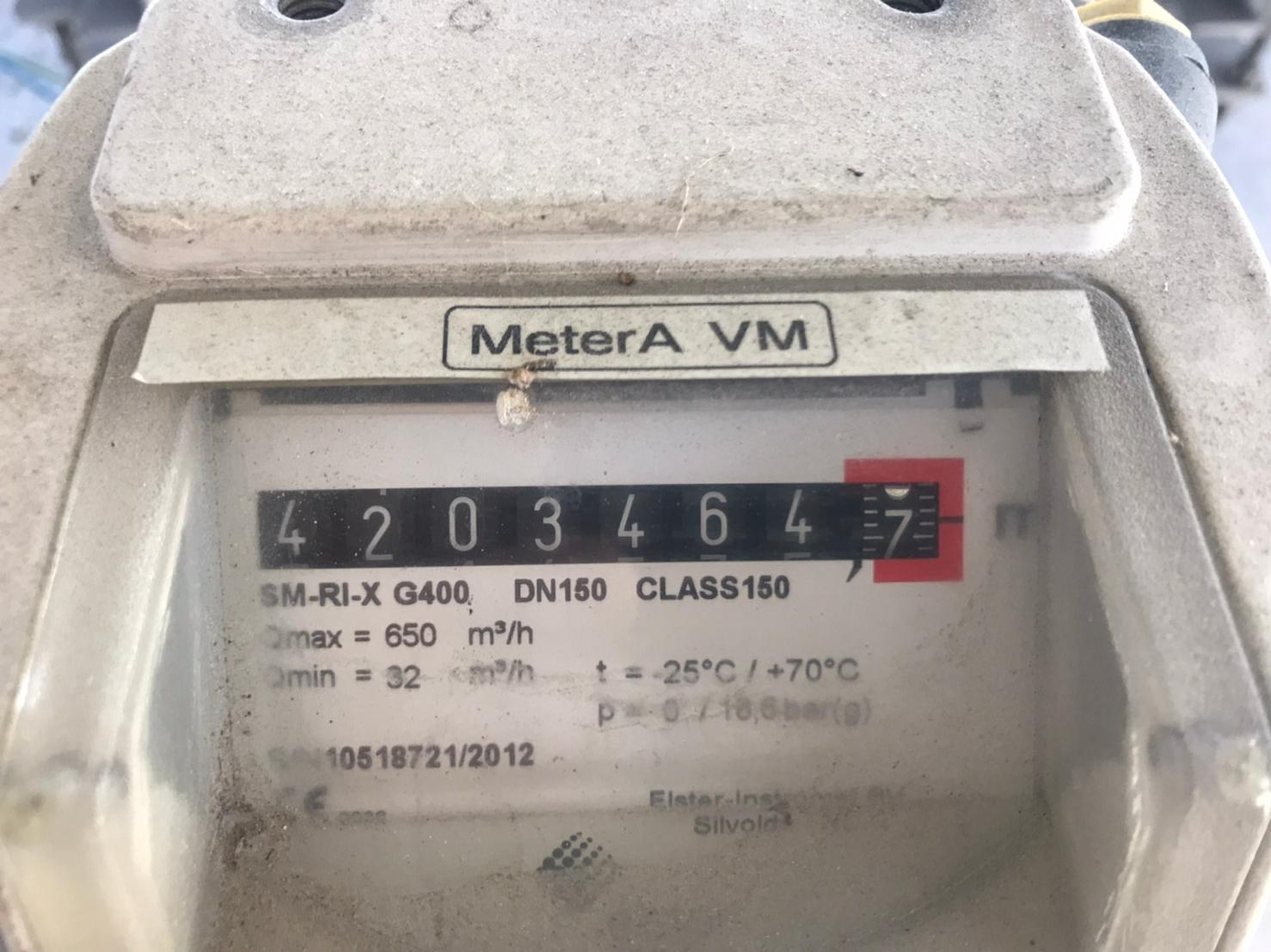analog_dial: (248, 453, 972, 602)
